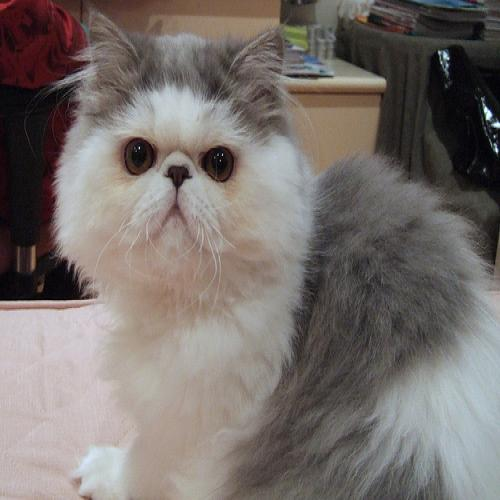persian: (45, 2, 303, 325)
